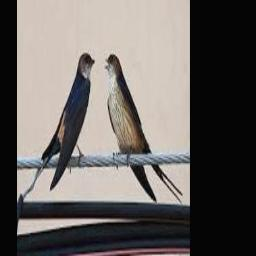Swallow: (105, 55, 184, 201), (23, 52, 95, 199)
